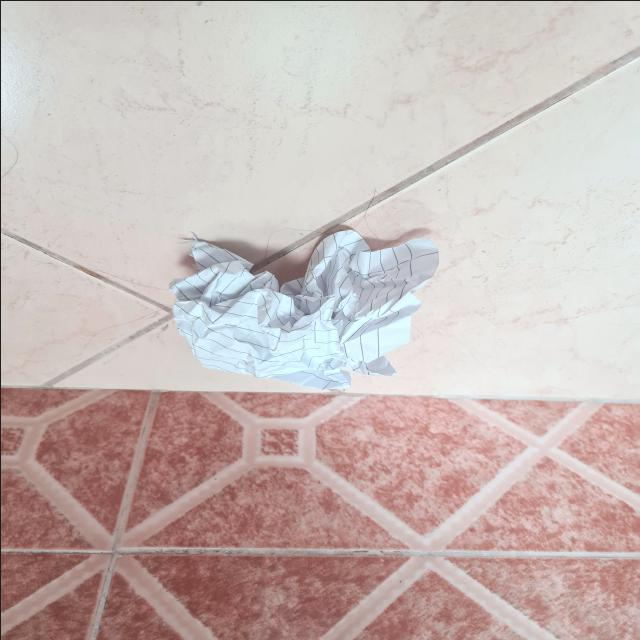Paper: (172, 229, 435, 383)
